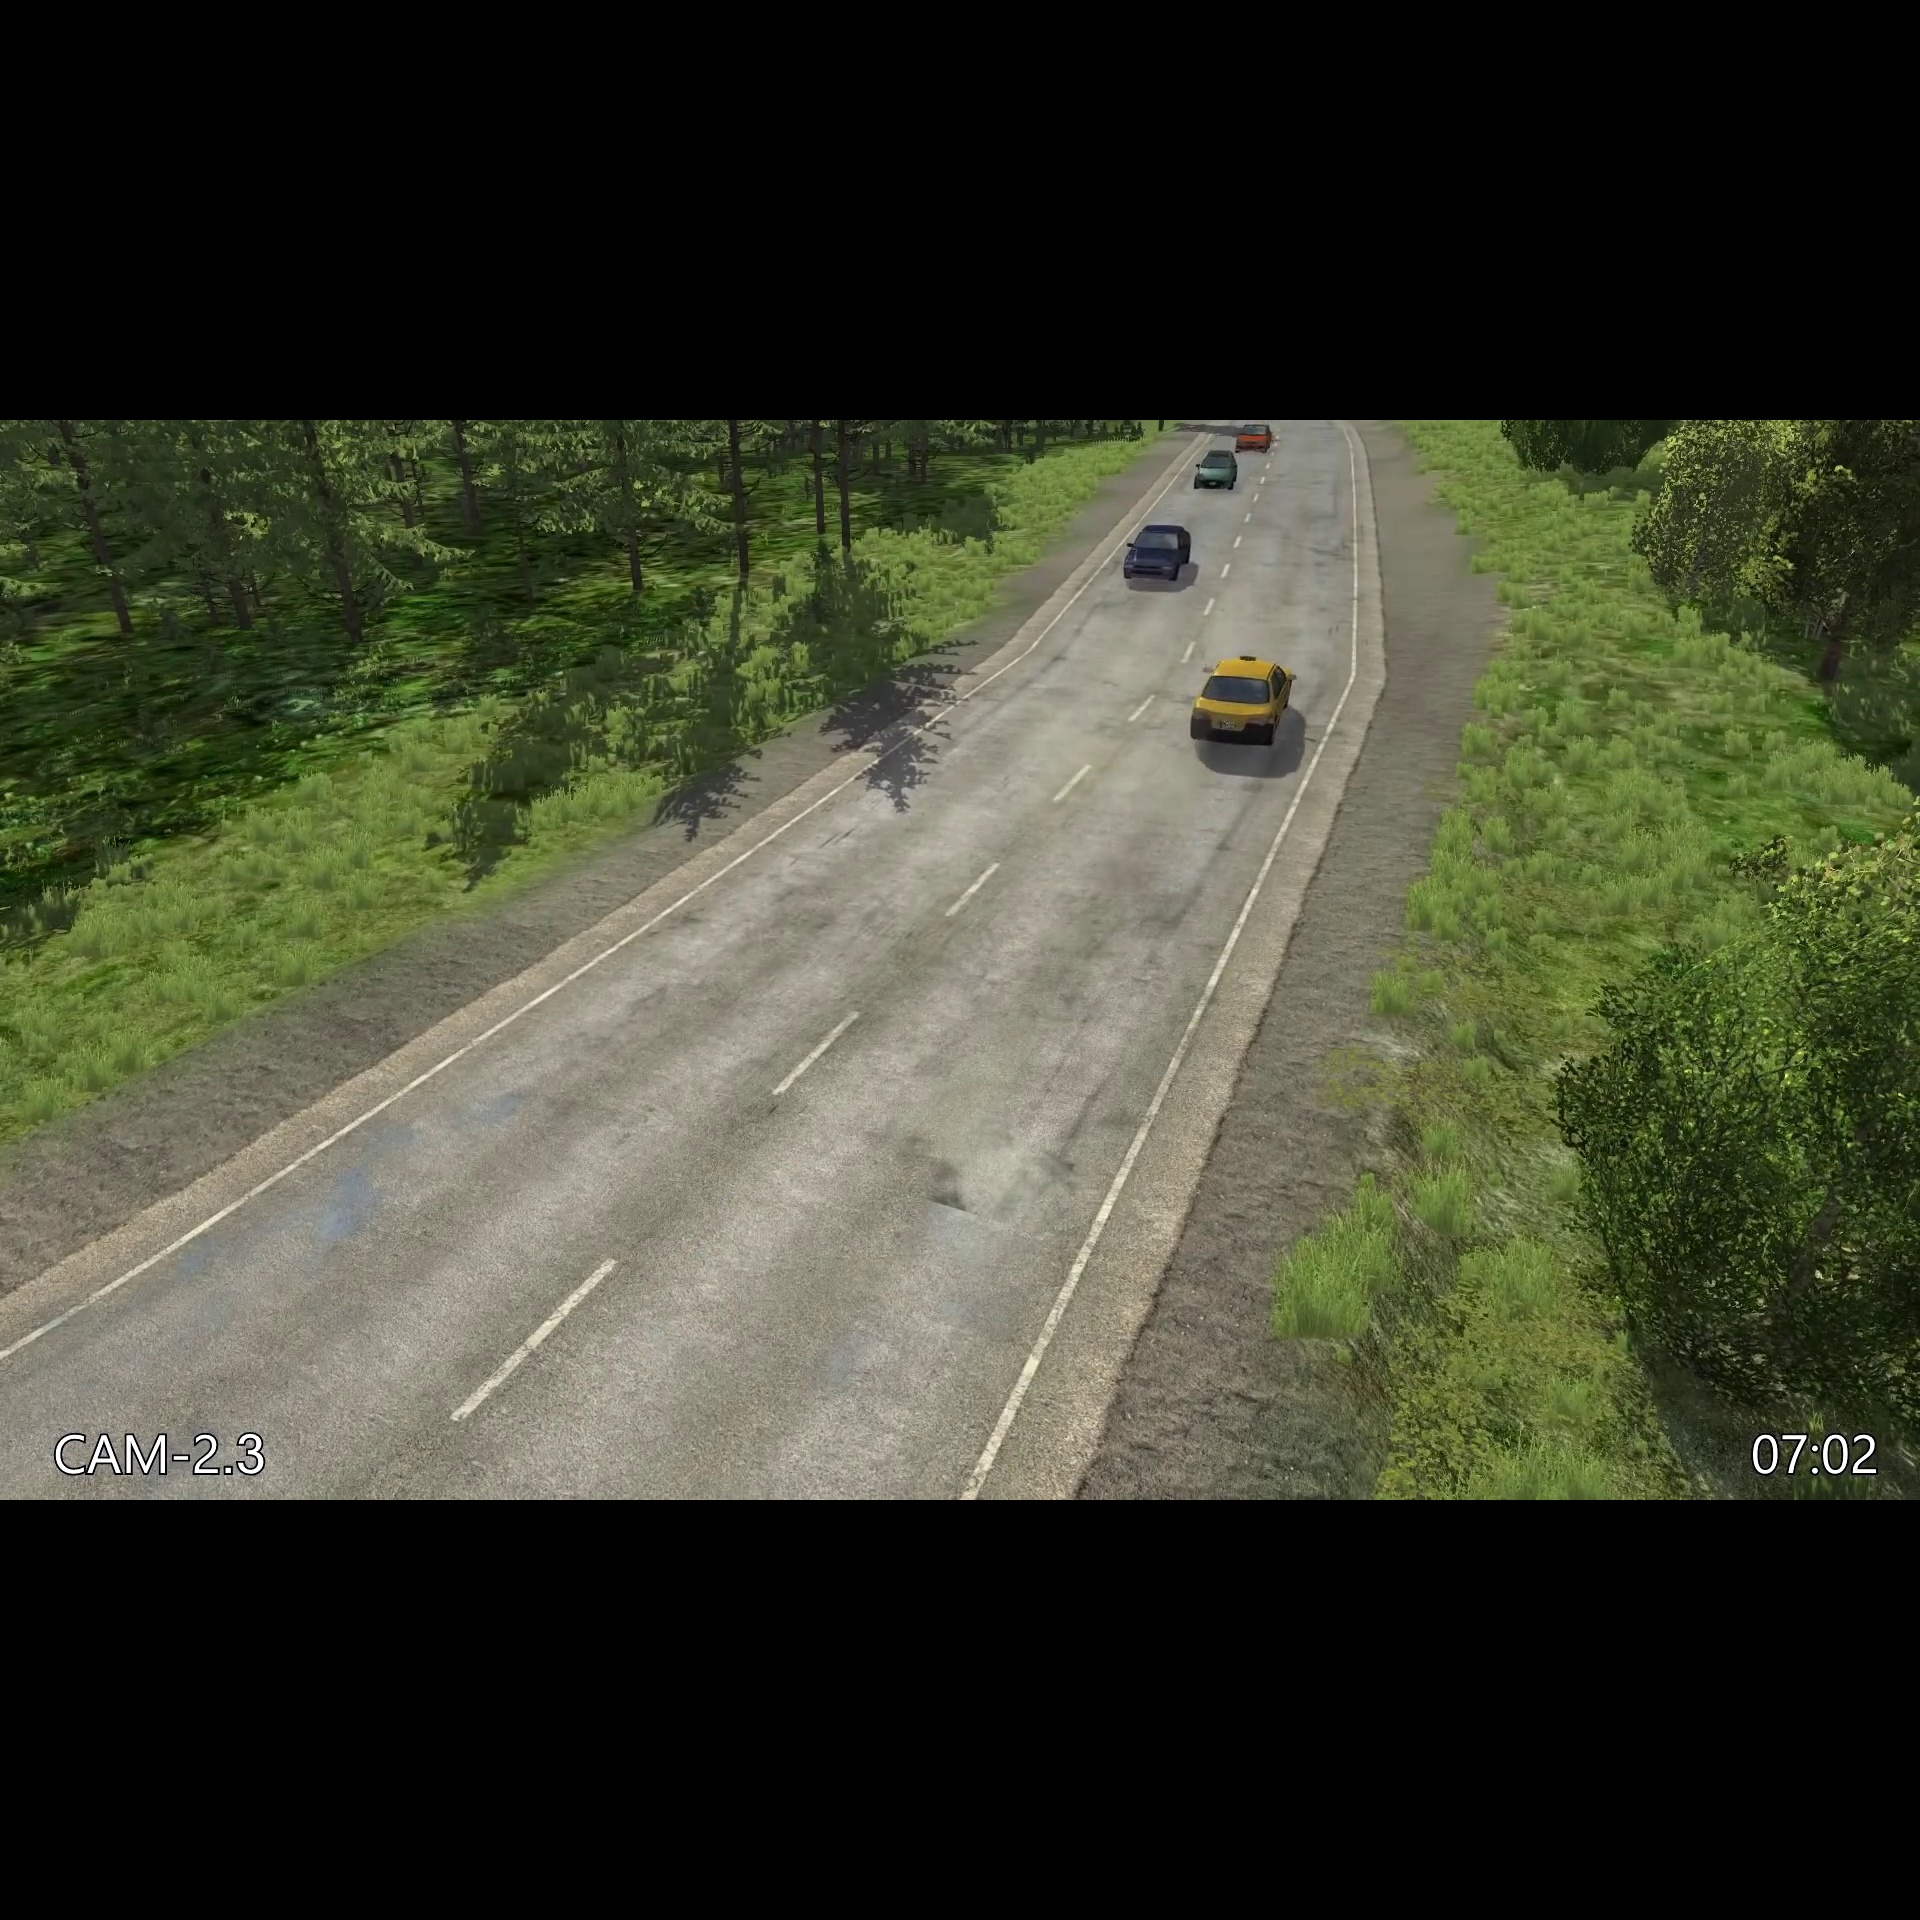vehicle: (1182, 647, 1305, 753), (1111, 517, 1199, 591), (1190, 445, 1241, 496), (1234, 417, 1273, 457)
